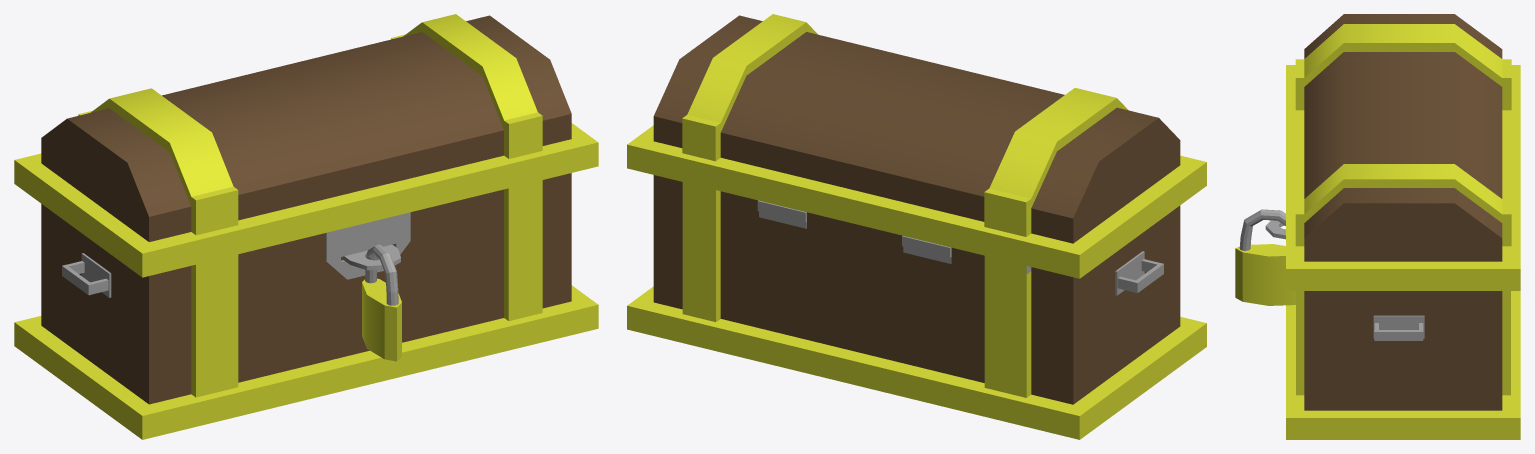
The model's file is Chest_Closed.fbx.
The picture shows the model from 3 angles, left to right: view 1: azimuth 30°, elevation 25°; view 2: azimuth 150°, elevation 25°; view 3: azimuth 270°, elevation 25°; orthographic projection. The views are drawn at different scales.
Parts seen in each view (by area): view 1: pCube22; view 2: pCube22; view 3: pCube22.
Boxes of the visible parts, <box> form: pCube22: <box>14,14,598,439</box>; pCube22: <box>627,14,1206,439</box>; pCube22: <box>1235,14,1520,439</box>.
Size of the model in its own units: 112 by 59.32 by 64.39.
